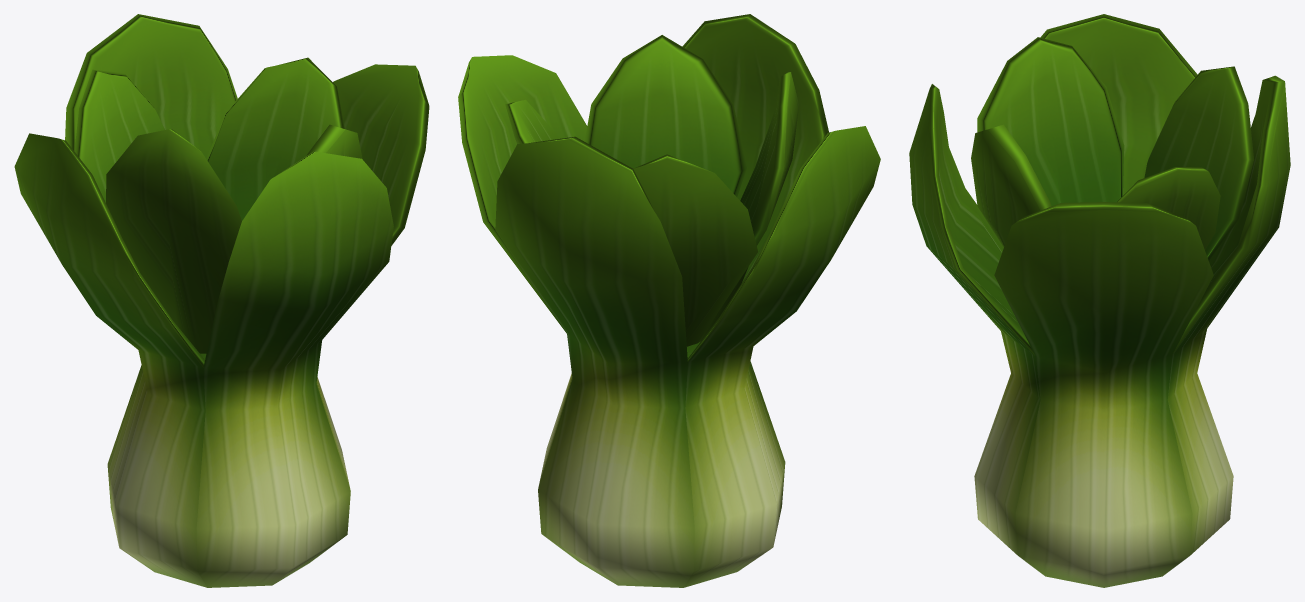
File: BokChoy_Small.fbx
The picture shows the model from 3 angles, left to right: view 1: azimuth 30°, elevation 25°; view 2: azimuth 150°, elevation 25°; view 3: azimuth 270°, elevation 25°; orthographic projection. The views are drawn at different scales.
Visible parts, largest first — view 1: BokChoy_Small; view 2: BokChoy_Small; view 3: BokChoy_Small.
Part boxes in pixels (box(x1,y1,x2,y2)): BokChoy_Small: box(14, 14, 429, 587); BokChoy_Small: box(458, 14, 880, 587); BokChoy_Small: box(909, 14, 1290, 587).
Bounding box in the file's own units: 46.22 × 57.47 × 41.77.
